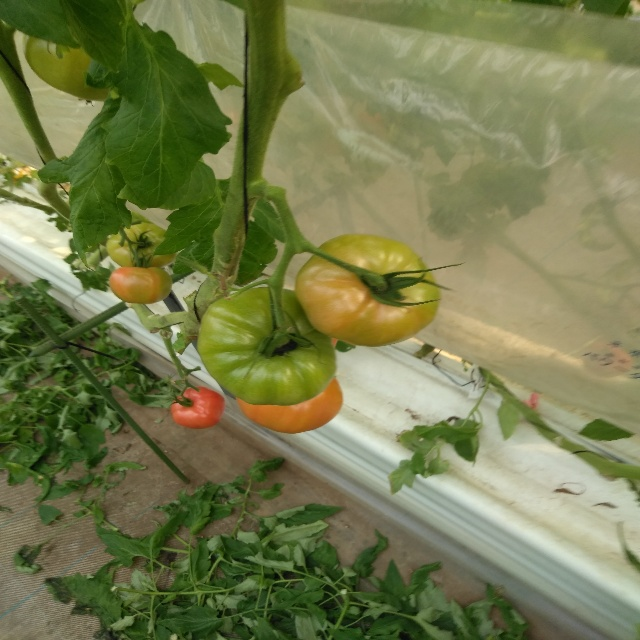b_fully_ripened: (170, 385, 226, 428)
b_green: (197, 287, 337, 405), (22, 33, 111, 103), (107, 222, 177, 268)
b_half_ripened: (294, 233, 442, 348), (235, 377, 342, 434), (110, 267, 173, 304)
